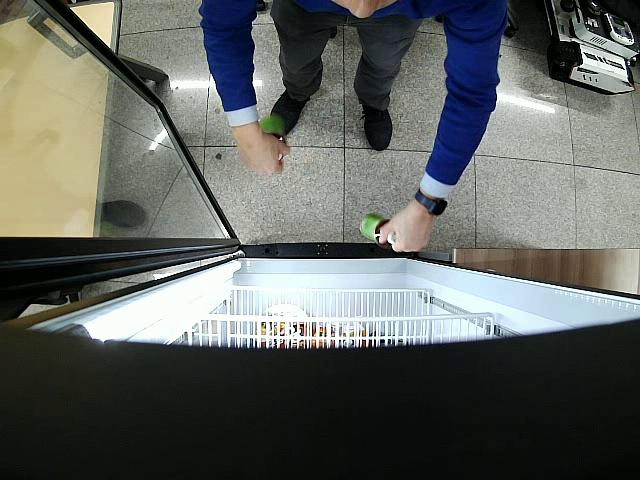00_hand: (228, 126, 290, 175), (378, 210, 430, 252)
19_17cha: (361, 210, 396, 248), (261, 116, 287, 146)
